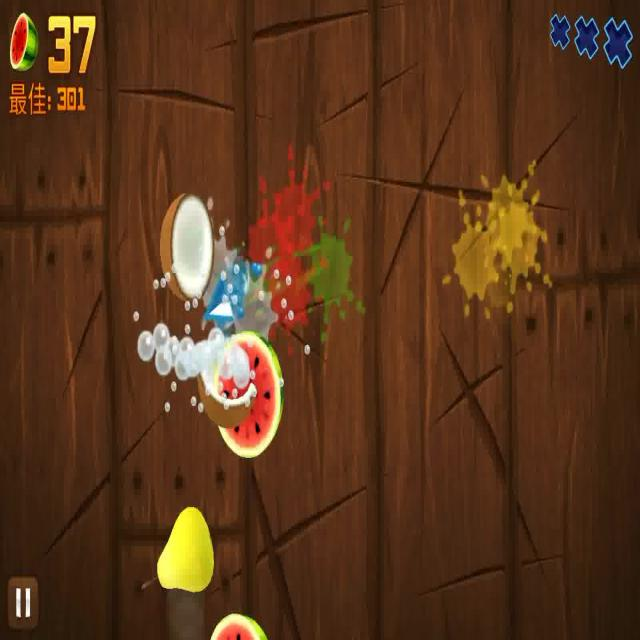fruit: (208, 335, 286, 451), (160, 194, 215, 295), (154, 502, 214, 586), (194, 345, 257, 423), (208, 611, 269, 640)
